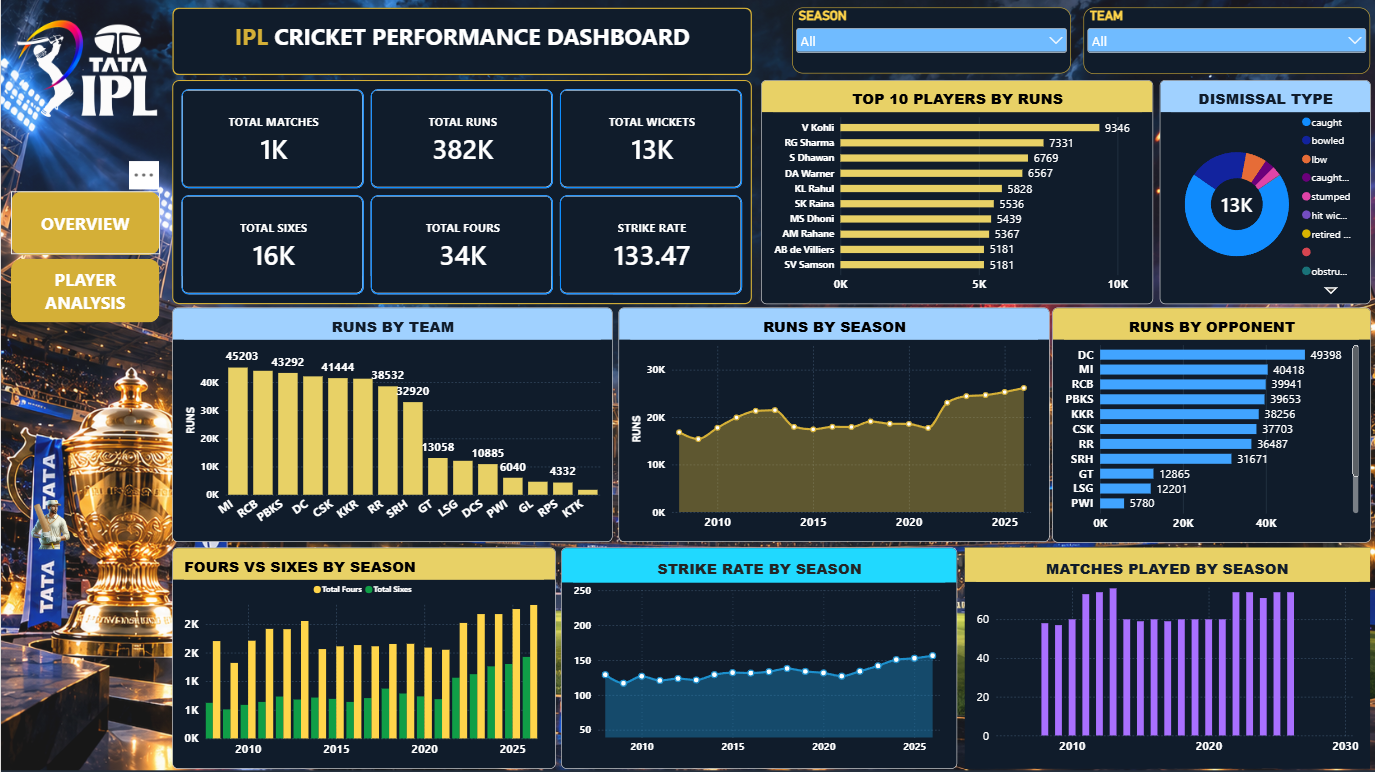

The page's visual inventory and layout, read from the dashboard file:
{"tool":"powerbi","page":{"name":"OVERVIEW","canvas":[1920,1080],"ordinal":0},"visuals":[{"type":"shape","box":[239,10.5,753.5,94.2],"z":0},{"type":"shape","box":[1386.2,108.6,528.4,713],"z":0,"group":"g1"},{"type":"cardVisual","fields":{"Data":["IPL.Total Matches","IPL.Total Runs","IPL.Total Sixes","IPL.Total Fours","IPL.Strike Rate","IPL.Highest Score"]},"box":[238.2,110.9,1143.6,136.4],"z":1000},{"type":"lineChart","title":"RUNS BY SEASON","fields":{"Category":["Calendar.Year"],"Y":["IPL.Total Runs"]},"box":[238.2,252.7,614.5,289.1],"z":2000},{"type":"slicer","fields":{"Values":["IPL.batting_team"]},"box":[1311.6,8.7,327.9,92.4],"z":3000},{"type":"slicer","fields":{"Values":["image.NAME"]},"box":[1646.5,10.5,266.9,92.4],"z":4000},{"type":"textbox","box":[252.9,10.5,725.7,94.1],"z":5000},{"type":"slicer","fields":{"Values":["Calendar.Year"]},"box":[1076.2,10.5,230.2,92.4],"z":6000},{"type":"clusteredBarChart","title":"TOP 10 PLAYERS BY RUNS","fields":{"Category":["Players.Player"],"Y":["IPL.Total Runs"]},"box":[861.8,252.7,520,287.3],"z":7000},{"type":"clusteredColumnChart","title":"RUNS IN TEAM","fields":{"Category":["IPL.Team Short"],"Y":["IPL.Total Runs"]},"box":[238.2,545.5,410.9,276.4],"z":8000},{"type":"donutChart","title":"DISMISSAL TYPE","fields":{"Category":["IPL.wicket_kind"],"Y":["IPL.Total Wickets"]},"box":[656.4,545.5,256.4,276.4],"z":9000},{"type":"clusteredBarChart","title":"RUNS AGAINTS OPPONENT","fields":{"Category":["IPL.Bowling Team Short"],"Y":["IPL.Total Runs"]},"box":[918.2,545.5,463.6,276.4],"z":10000},{"type":"clusteredColumnChart","title":"FOURS VS SIXES BY SEASON","fields":{"Category":["Calendar.Year"],"Y":["IPL.Total Fours","IPL.Total Sixes"]},"box":[238.2,825.5,565.5,249.1],"z":11000},{"type":"clusteredColumnChart","title":"MATCHES PLAYED BY SEASON","fields":{"Category":["Calendar.Year"],"Y":["IPL.Matches by Season"]},"box":[809.1,825.5,572.7,249.1],"z":12000},{"type":"lineChart","title":"STRIKE RATE BY SEASON","fields":{"Category":["Calendar.Year"],"Y":["IPL.Strike Rate"]},"box":[1385.5,821.8,529.1,258.2],"z":13000},{"type":"image","box":[5.5,10.9,223.6,167.3],"z":14000},{"type":"group","id":"g1","title":"Group 1","box":[1386.2,108.6,528.4,713],"z":15000},{"type":"textbox","box":[1398.2,110.9,320,67.3],"z":15000,"group":"g1"},{"type":"image","box":[1398.2,154.6,505.5,441.8],"z":16000,"group":"g1"},{"type":"actionButton","box":[12.2,350.6,207.6,87.2],"z":16000},{"type":"actionButton","box":[12.2,443,207.6,89],"z":17000},{"type":"cardVisual","fields":{"Data":["IPL.Total Matches","IPL.Total Runs","IPL.Total Fours","IPL.Total Sixes","IPL.Strike Rate","IPL.Highest Score"]},"box":[1396.4,590.9,505.5,210.9],"z":17000,"group":"g1"},{"type":"actionButton","box":[12.2,256.4,207.6,89],"z":18000}]}

Visuals, with their boxes in screenshot pixels (x1, y1, x2, y2), scaled from the page's 1920x1080 canvas onto the 1375x772 screenshot:
shape: 171, 8, 711, 75
shape: 993, 78, 1371, 587
cardVisual - IPL.Total Matches x IPL.Total Runs: 171, 79, 990, 177
"RUNS BY SEASON" lineChart: 171, 181, 611, 387
slicer - IPL.batting_team: 939, 6, 1174, 72
slicer - image.NAME: 1179, 8, 1370, 74
textbox: 181, 8, 701, 75
slicer - Calendar.Year: 771, 8, 936, 74
"TOP 10 PLAYERS BY RUNS" clusteredBarChart: 617, 181, 990, 386
"RUNS IN TEAM" clusteredColumnChart: 171, 390, 465, 588
"DISMISSAL TYPE" donutChart: 470, 390, 654, 588
"RUNS AGAINTS OPPONENT" clusteredBarChart: 658, 390, 990, 588
"FOURS VS SIXES BY SEASON" clusteredColumnChart: 171, 590, 576, 768
"MATCHES PLAYED BY SEASON" clusteredColumnChart: 579, 590, 990, 768
"STRIKE RATE BY SEASON" lineChart: 992, 587, 1371, 771
image: 4, 8, 164, 127
"Group 1" group: 993, 78, 1371, 587
textbox: 1001, 79, 1230, 127
image: 1001, 111, 1363, 426
actionButton: 9, 251, 157, 313
actionButton: 9, 317, 157, 380
cardVisual - IPL.Total Matches x IPL.Total Runs: 1000, 422, 1362, 573
actionButton: 9, 183, 157, 247
